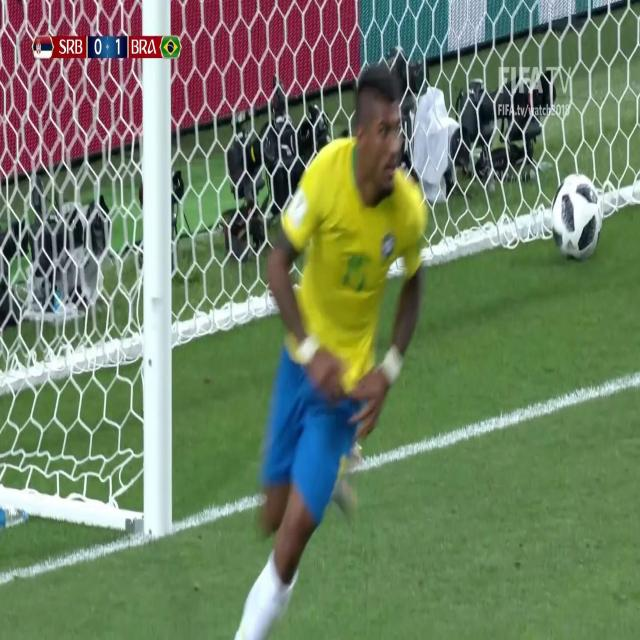ball: (544, 163, 607, 271)
player: (209, 62, 440, 640)
